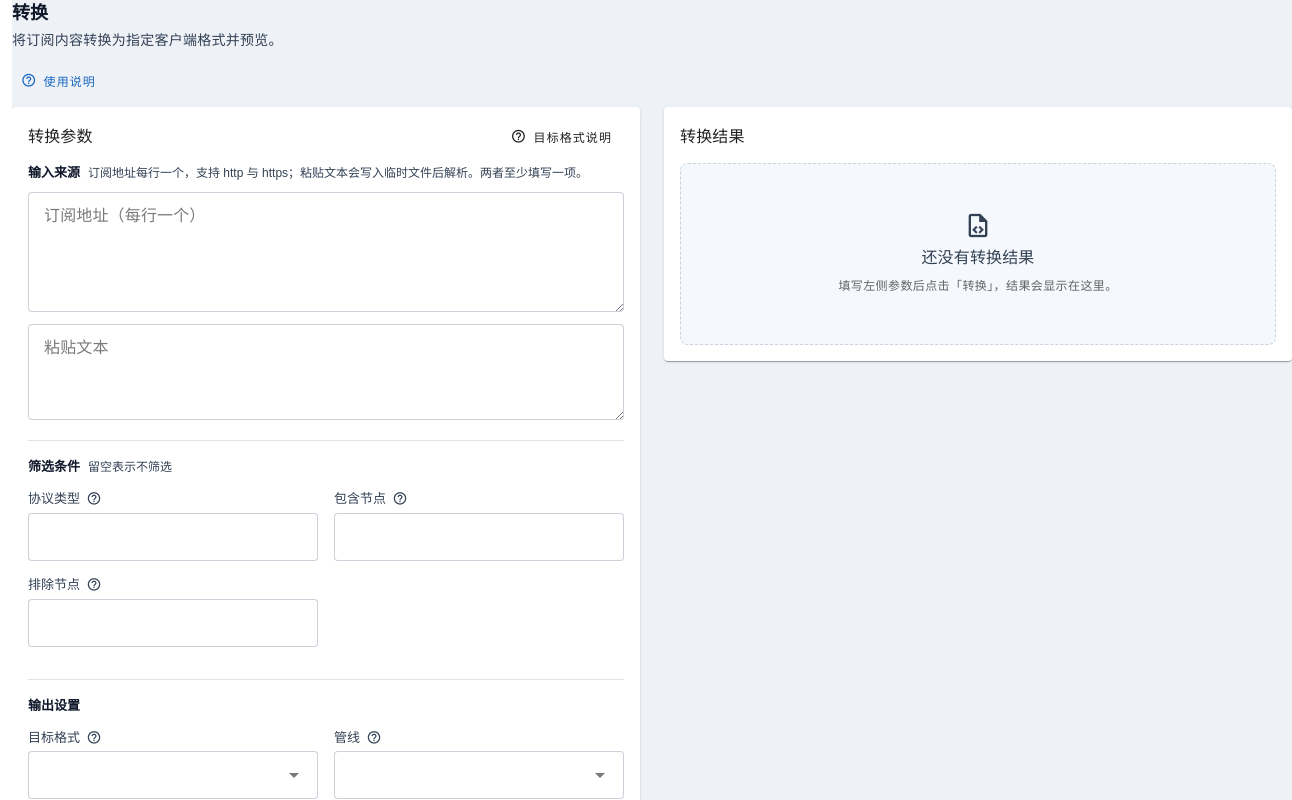
it: ConvertPage › 模板：target 含义表按 /api/targets 真实返回值生成，未知项归入「其他」
Click the button with test id "target-meanings-toggle". click: (563, 137)
box: [502, 123, 624, 151]
(page scrolled)
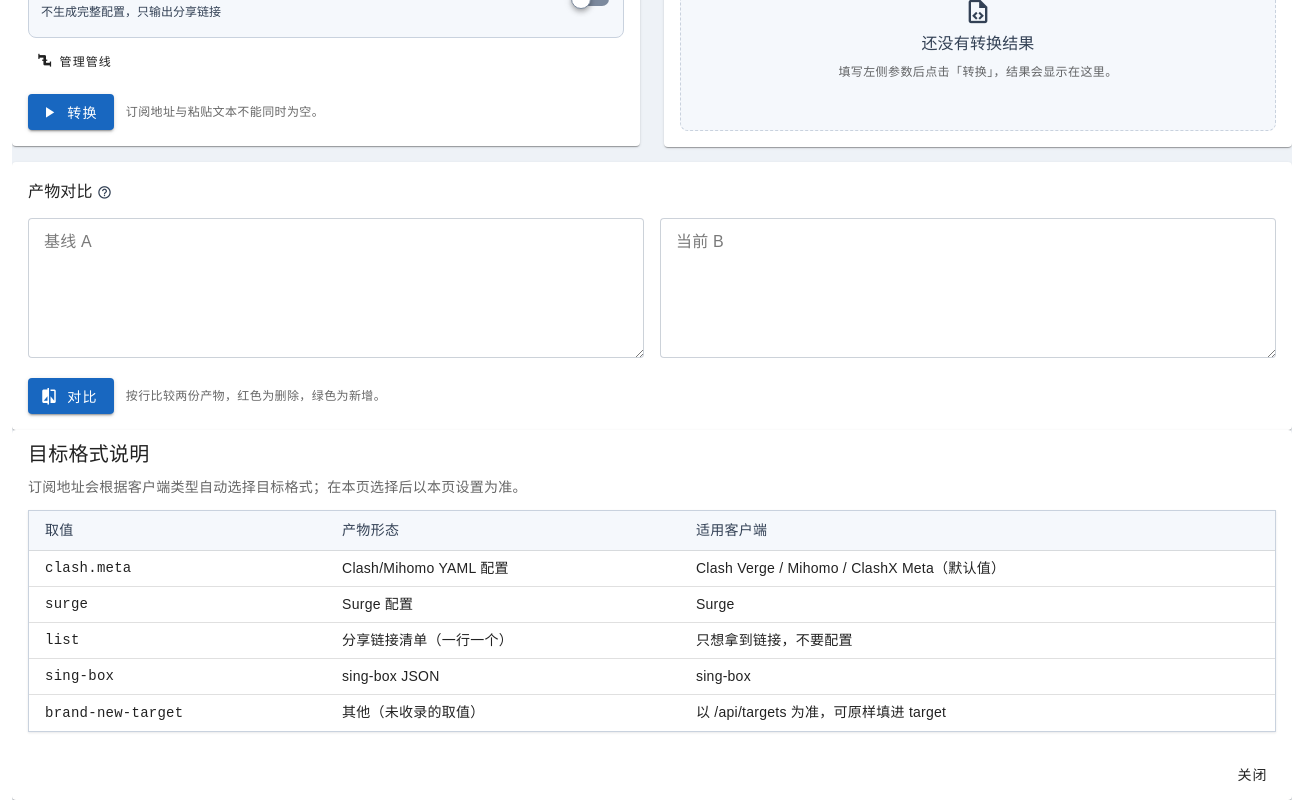
Expected: the row that starts with "clash.meta" is shown, [45, 560, 132, 576]
Expected: the row that starts with "clash.meta" shows "Clash/Mihomo YAML 配置", [342, 560, 509, 576]
Expected: the row "sing-box sing-box JSON sing-box" is shown, [29, 658, 1275, 694]
